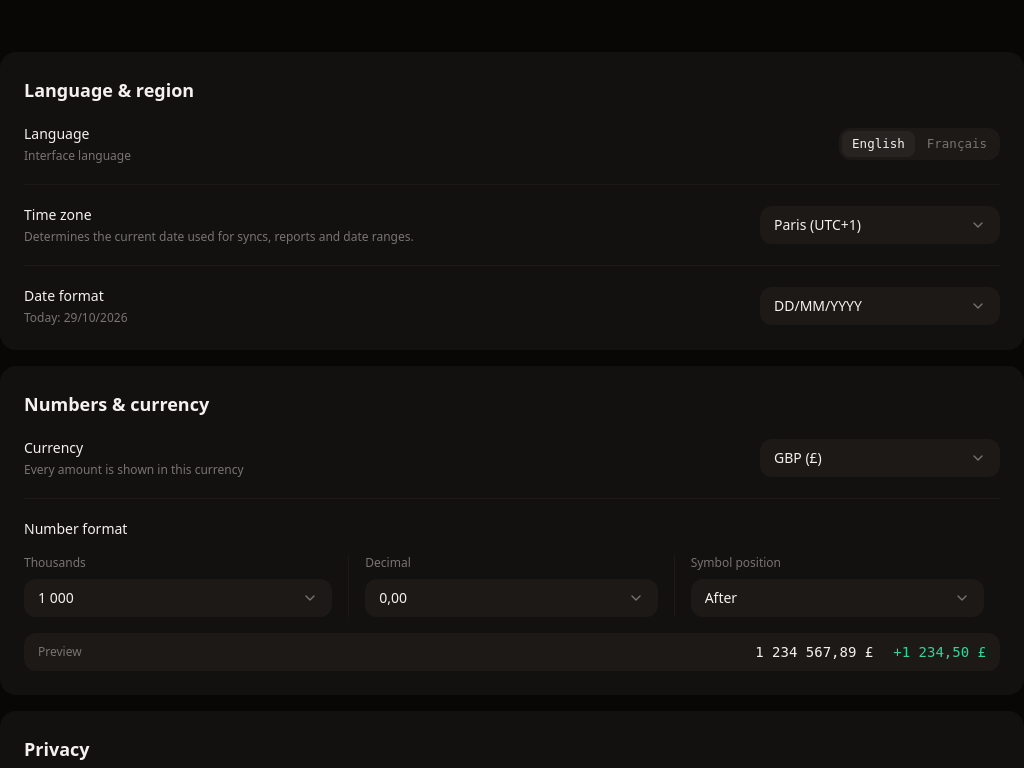
Test: preview updates live (no refresh) when prefs change
Check: the text "1 234 567,89 £" is shown, box [755,642,873,662]
Click the button "GBP (£)".
click(880, 458)  # box [760,439,1000,477]
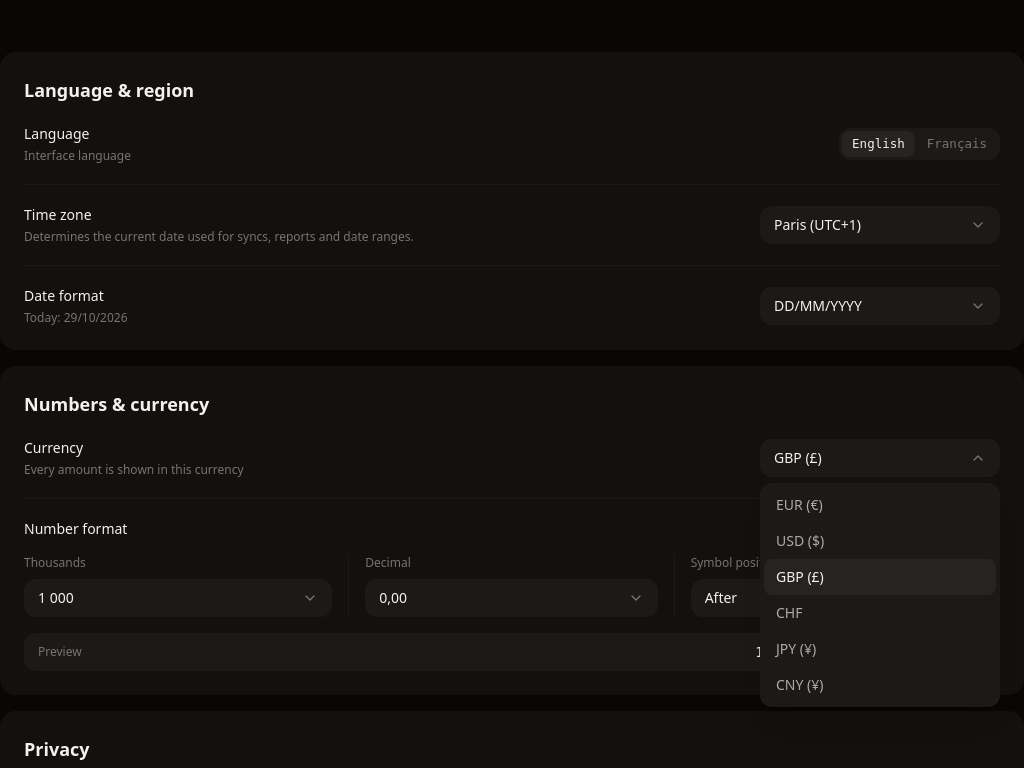
Click the button "USD ($)".
click(880, 541)  # box [764,523,996,559]
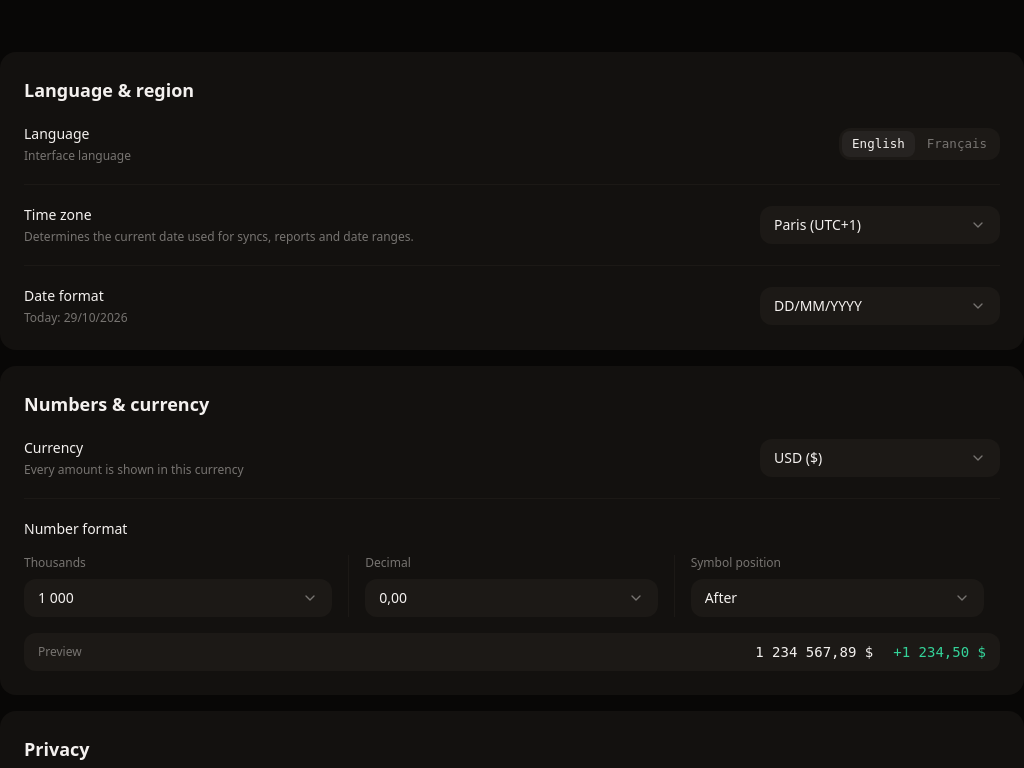
Check: the text "1 234 567,89 $" is shown, box [755,642,873,662]
